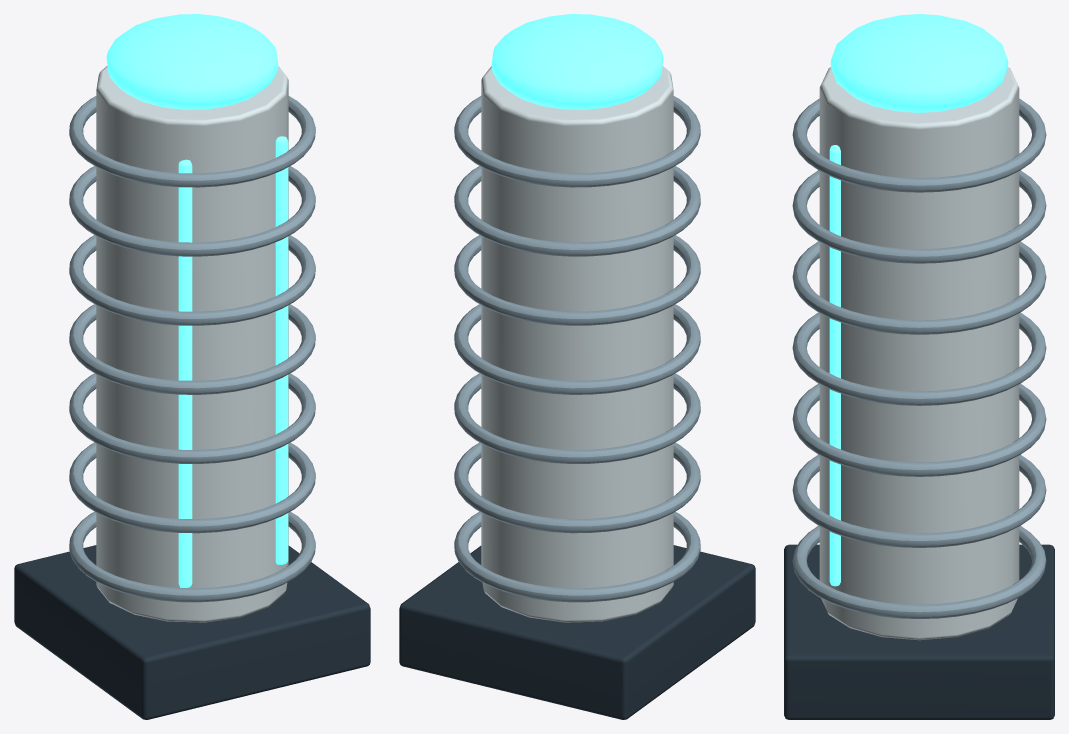
The model's file is cryo_tower.glb.
3 renders of one model, left to right at view 1: azimuth 30°, elevation 25°; view 2: azimuth 150°, elevation 25°; view 3: azimuth 270°, elevation 25°, orthographic. The views are drawn at different scales.
Visible parts, largest first — view 1: Cryo reservoir, Cooling base, Coolant cap, Coolant inspection strip, Heat exchanger.006, Heat exchanger.004, Heat exchanger.005, Heat exchanger, Heat exchanger.003, Heat exchanger.001, Heat exchanger.002, Coolant inspection strip.001; view 2: Cryo reservoir, Cooling base, Coolant cap, Heat exchanger.006, Heat exchanger.004, Heat exchanger.005, Heat exchanger, Heat exchanger.003, Heat exchanger.001, Heat exchanger.002; view 3: Cryo reservoir, Cooling base, Coolant cap, Heat exchanger.006, Heat exchanger.002, Heat exchanger.003, Heat exchanger.004, Heat exchanger.005, Heat exchanger.001, Heat exchanger, Coolant inspection strip.001.
Boxes of the visible parts, box(x1,y1,x2,y2) form: Cryo reservoir: box(96, 66, 288, 622); Cooling base: box(14, 545, 370, 719); Coolant cap: box(106, 14, 278, 109); Coolant inspection strip: box(178, 159, 192, 587); Heat exchanger.006: box(69, 96, 315, 187); Heat exchanger.004: box(69, 235, 315, 325); Heat exchanger.005: box(69, 166, 315, 256); Heat exchanger: box(69, 511, 315, 602); Heat exchanger.003: box(69, 304, 315, 394); Heat exchanger.001: box(69, 442, 315, 533); Heat exchanger.002: box(69, 373, 315, 463); Coolant inspection strip.001: box(275, 136, 288, 564); Cryo reservoir: box(481, 66, 673, 622); Cooling base: box(399, 545, 755, 719); Coolant cap: box(491, 14, 663, 109); Heat exchanger.006: box(454, 96, 700, 187); Heat exchanger.004: box(454, 235, 700, 325); Heat exchanger.005: box(454, 166, 700, 256); Heat exchanger: box(454, 511, 700, 602); Heat exchanger.003: box(454, 304, 700, 394); Heat exchanger.001: box(454, 442, 700, 533); Heat exchanger.002: box(454, 373, 700, 463); Cryo reservoir: box(819, 67, 1019, 640); Cooling base: box(784, 544, 1054, 719); Coolant cap: box(830, 14, 1008, 112); Heat exchanger.006: box(792, 98, 1046, 192); Heat exchanger.002: box(792, 383, 1046, 476); Heat exchanger.003: box(792, 312, 1046, 405); Heat exchanger.004: box(792, 241, 1046, 334); Heat exchanger.005: box(792, 170, 1046, 263); Heat exchanger.001: box(792, 454, 1046, 547); Heat exchanger: box(792, 526, 1046, 618); Coolant inspection strip.001: box(829, 145, 840, 586).
Size of the model in its own units: 1.9 by 4.9 by 1.9.
